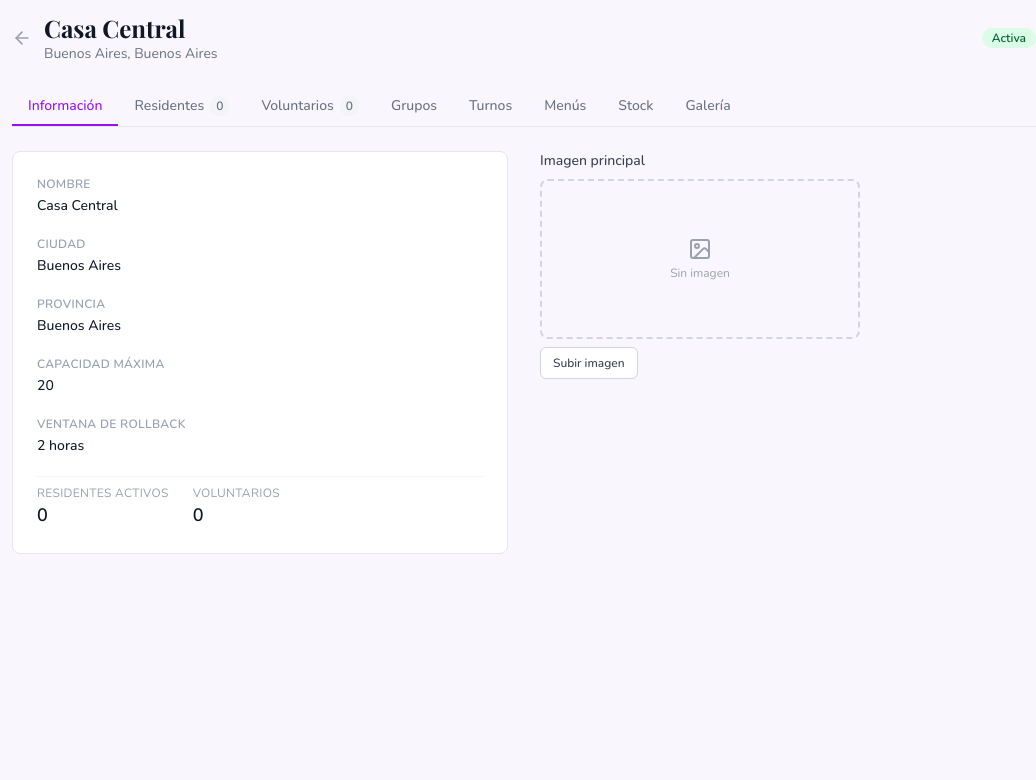
Test: ResidenciaDetailPage — tabs › cambia al tab Galería al hacer clic
Click the tab "Galería": (708, 107) [669, 88, 747, 126]
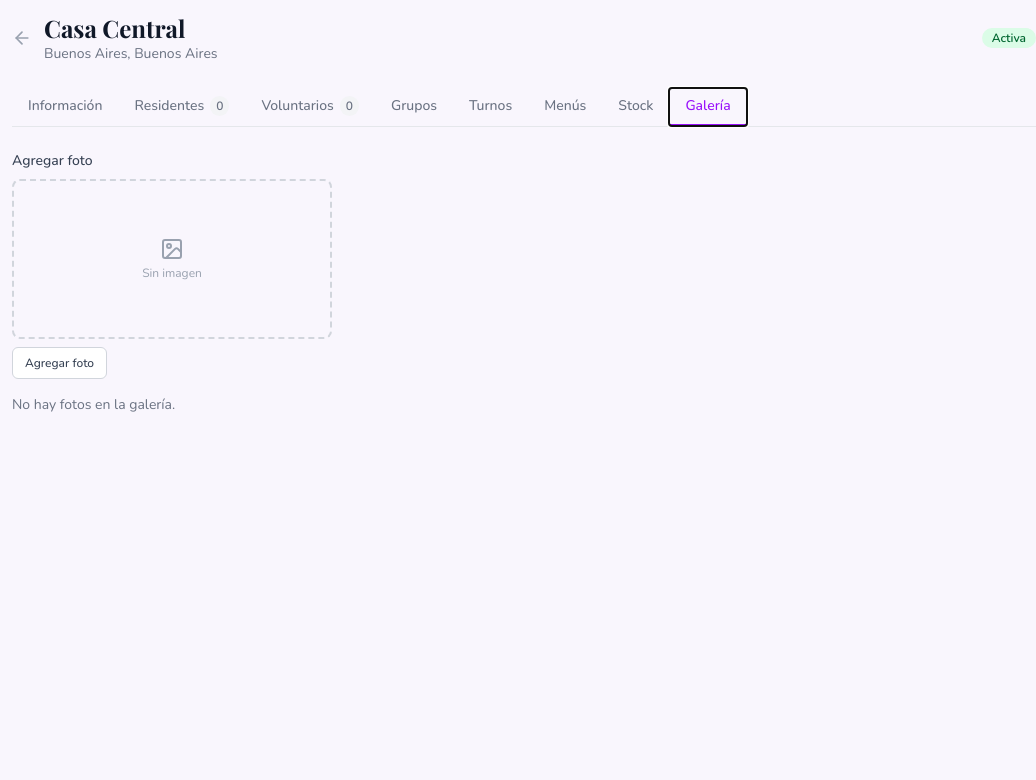
Expected: the text "No hay fotos en la galería." is shown, [12, 395, 175, 414]
